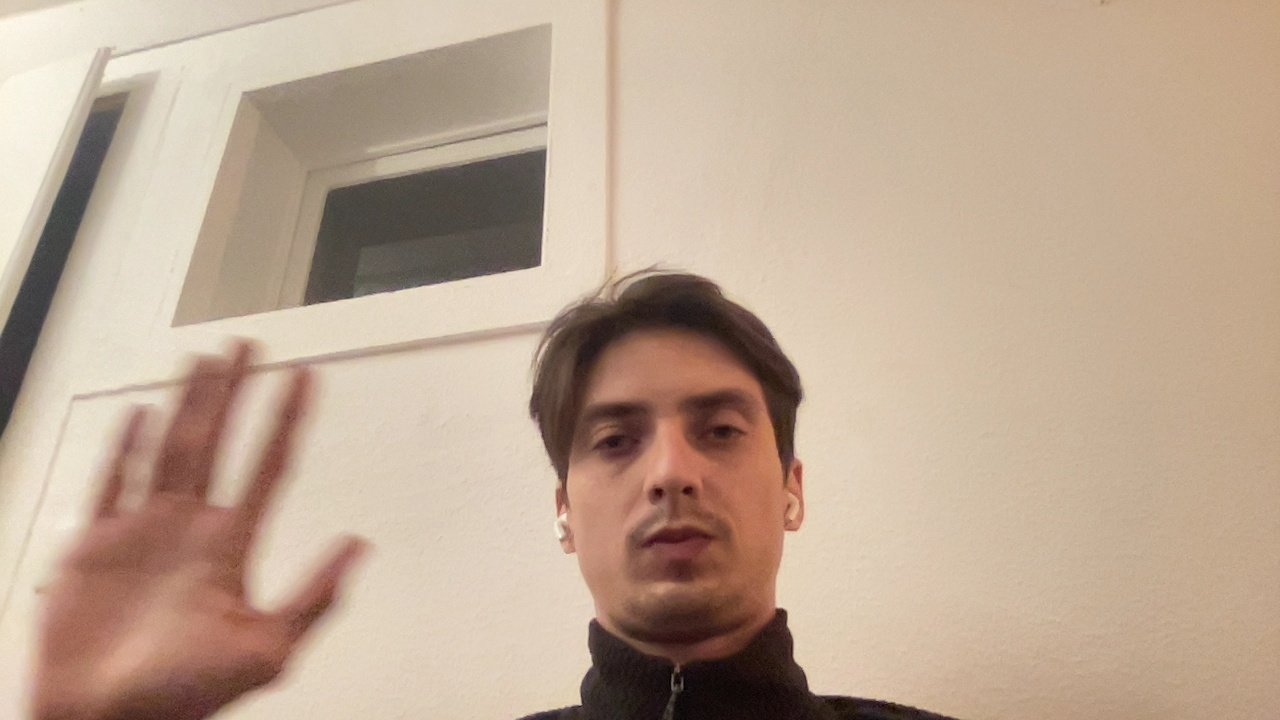Hello: (13, 311, 383, 719)
